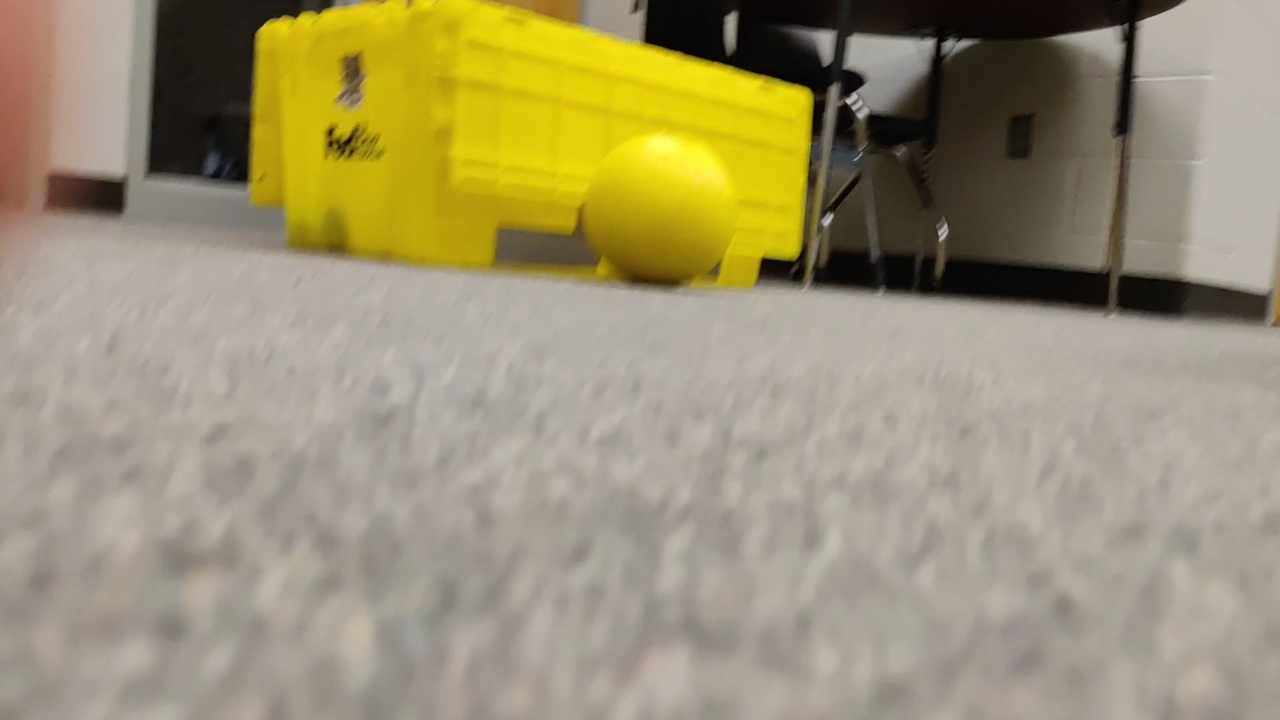Ball: (583, 127, 728, 281)
